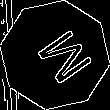M_SW: (21, 22, 89, 88)
